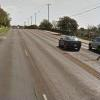Car: (53, 29, 85, 53)
